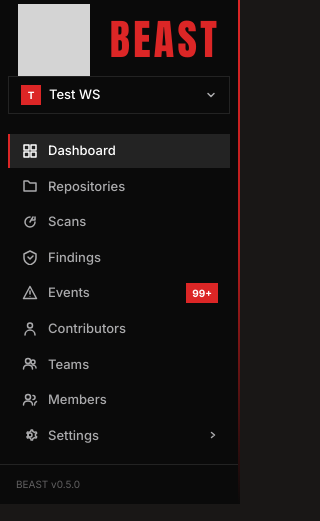
Test: Sidebar › shows create workspace button for super_admin users navigating to /onboarding
Note: Open dropdown to see workspace list
Click the text "Test WS" at (75, 94), box [49,86,100,102]
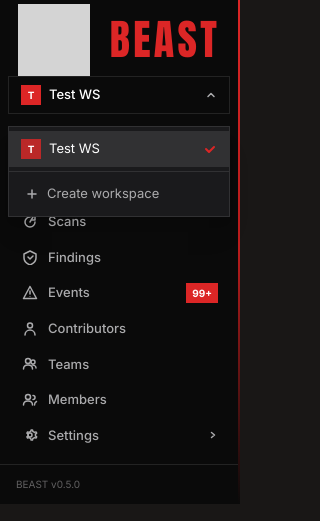
Expected: the button "Create workspace" is shown, [13,176,225,212]
